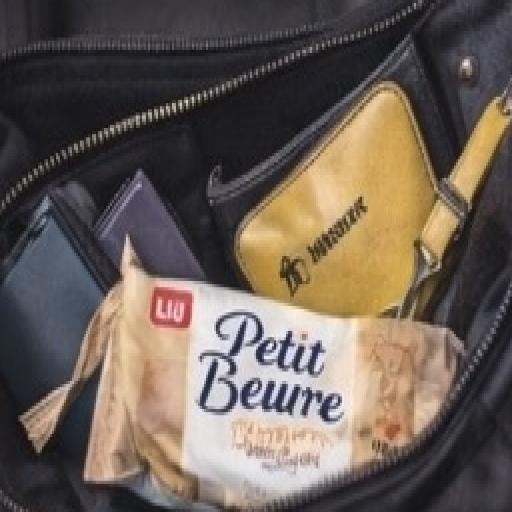petit-beurre: (50, 190, 474, 512)
